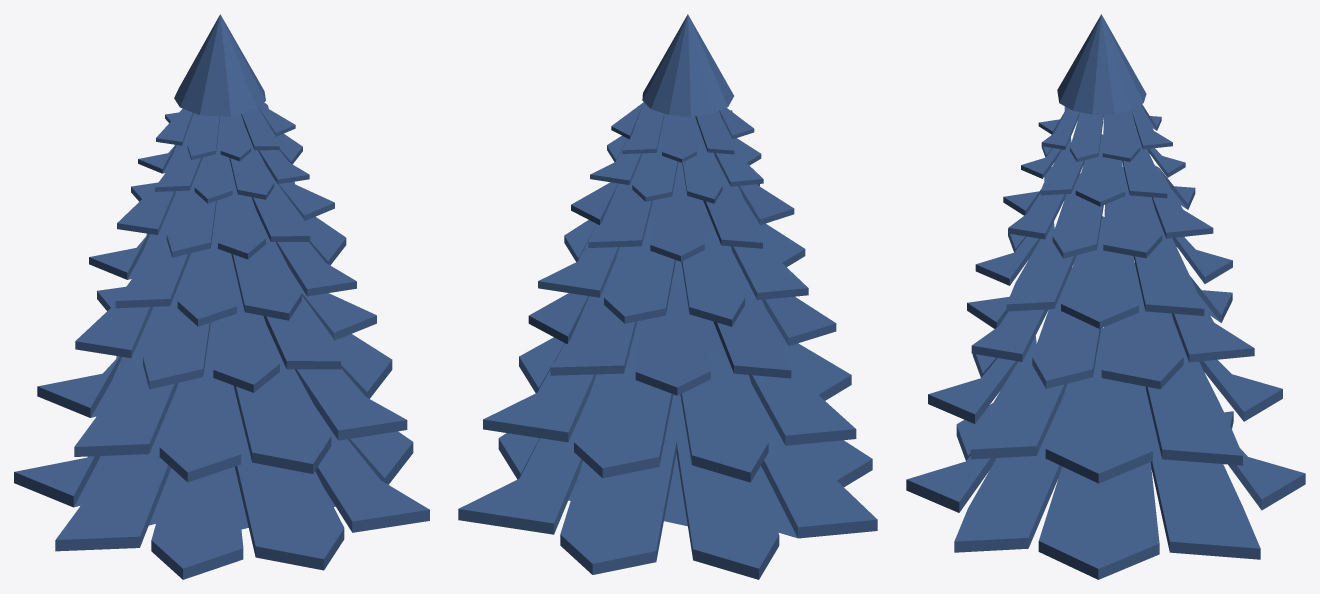
Rendered from tree-winter-leaves-031.glb.
3 renders of one model, left to right at view 1: azimuth 30°, elevation 25°; view 2: azimuth 150°, elevation 25°; view 3: azimuth 270°, elevation 25°, orthographic. The views are drawn at different scales.
Parts seen in each view (by area): view 1: Plane.063_167; view 2: Plane.063_167; view 3: Plane.063_167.
Part boxes in pixels (bbox=[...]): Plane.063_167: bbox=[14, 14, 429, 579]; Plane.063_167: bbox=[458, 14, 877, 579]; Plane.063_167: bbox=[906, 14, 1305, 579].
Bounding box in the file's own units: 1.47 × 1.84 × 1.4.
